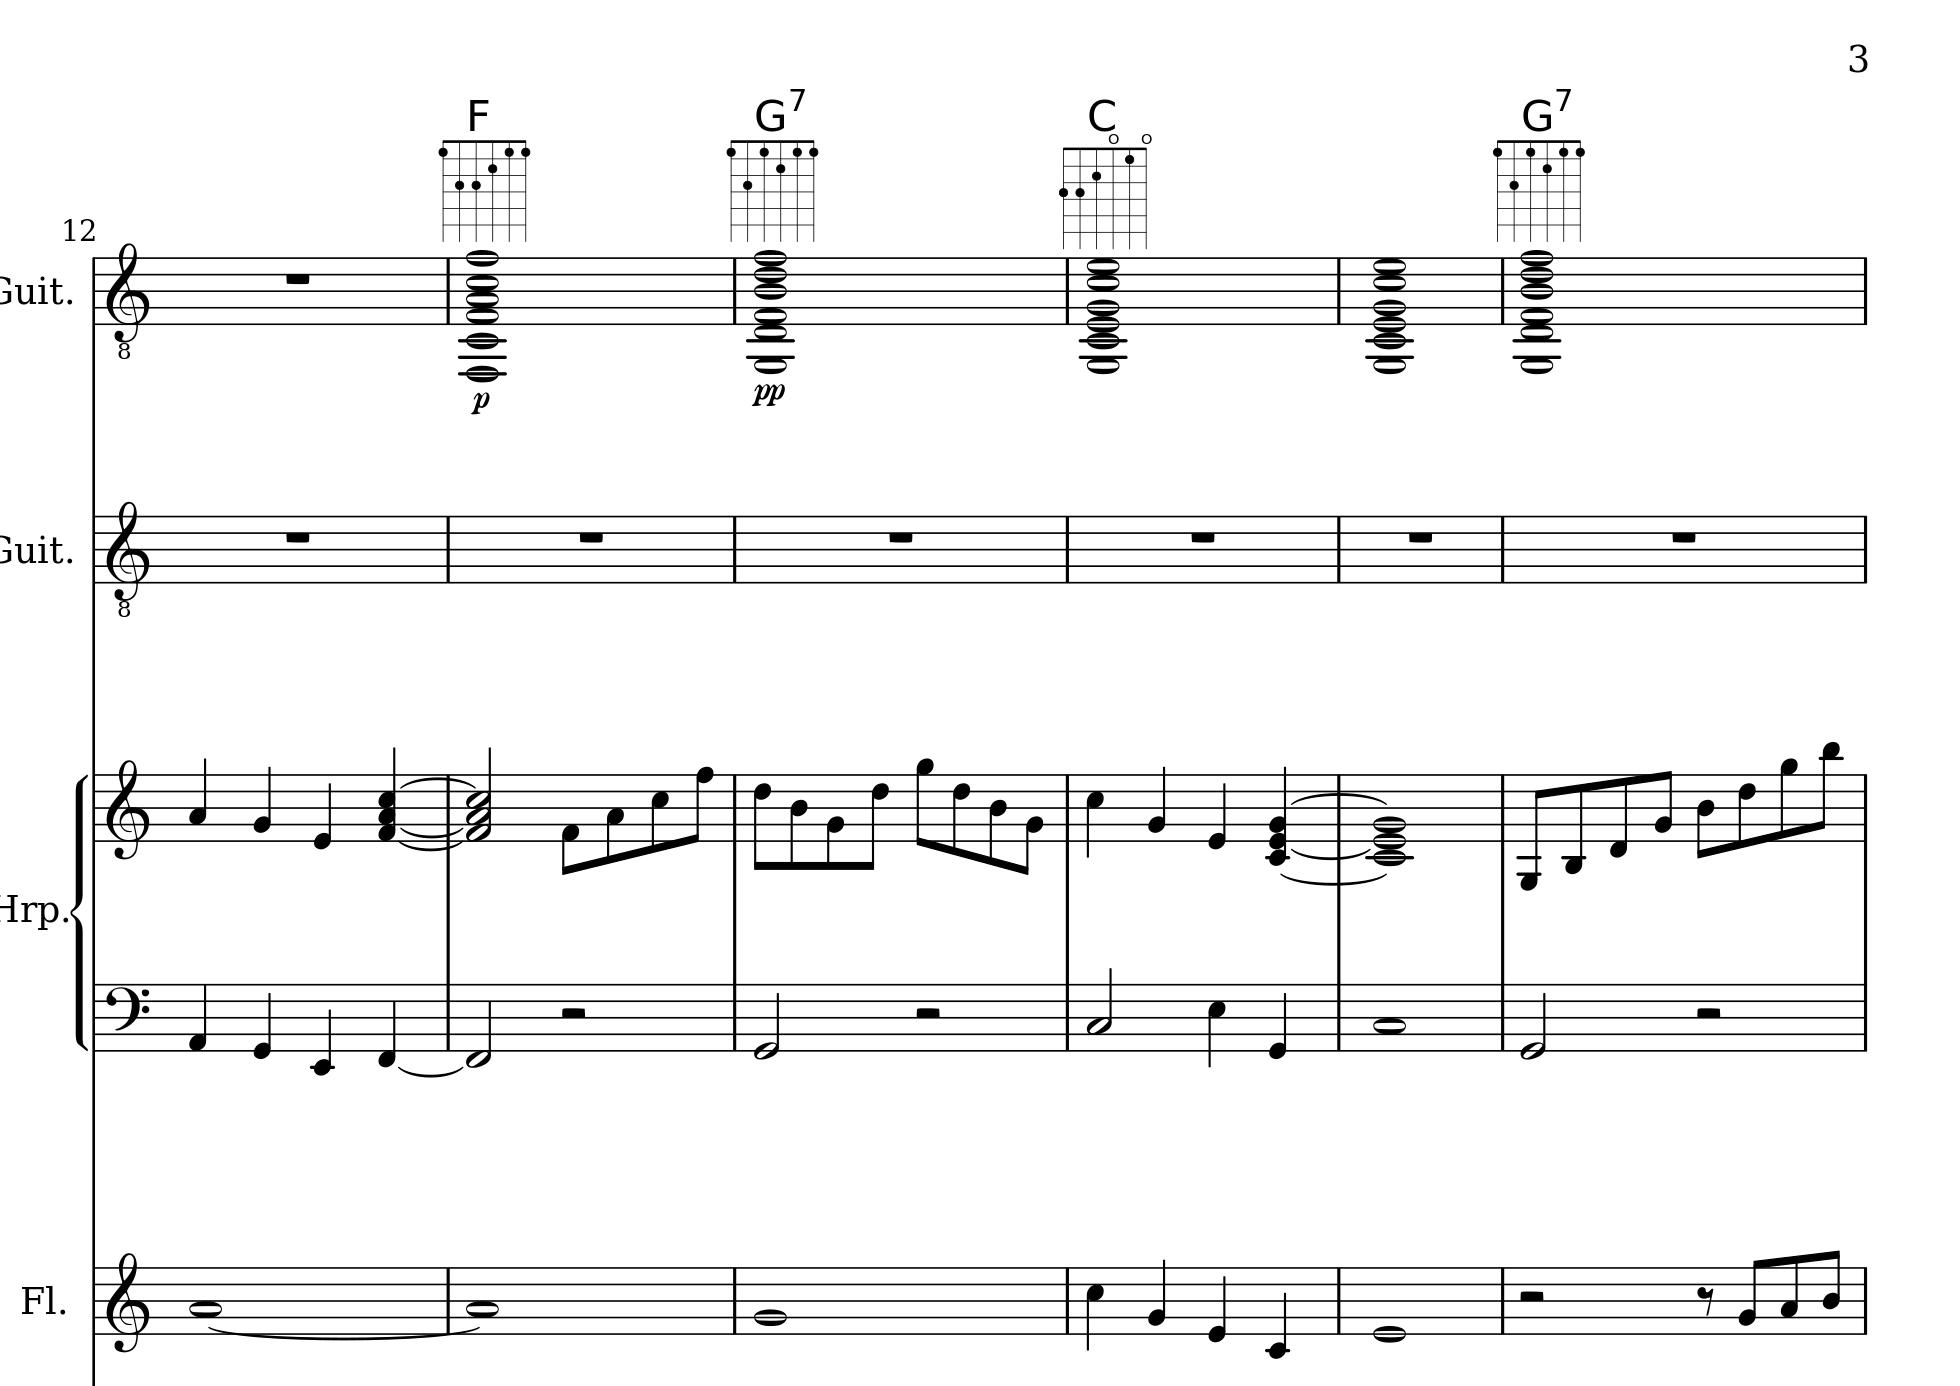1: (61, 214, 76, 243)
1_0: (1371, 1261, 1408, 1344)
1_2: (751, 1263, 789, 1336)
1_3: (1372, 982, 1407, 1053), (190, 1264, 223, 1336), (465, 1264, 498, 1335)
1_th: (1368, 774, 1416, 868)
2: (78, 216, 97, 243)
2_-1: (465, 981, 493, 1068)
2_0: (751, 981, 781, 1060), (1519, 981, 1548, 1060)
2_3: (1086, 966, 1114, 1051)
2_th: (463, 744, 495, 847)
3: (1846, 39, 1872, 76)
4_-1: (373, 979, 397, 1068)
4_-2: (1264, 1264, 1293, 1359), (309, 979, 334, 1075)
4_0: (1206, 771, 1230, 850), (250, 981, 274, 1060), (1206, 1264, 1230, 1342), (312, 771, 334, 850), (1267, 981, 1290, 1060)
4_1: (184, 981, 210, 1051)
4_2: (1146, 763, 1170, 843), (1146, 1255, 1170, 1335), (252, 763, 274, 843)
4_3: (187, 754, 208, 841)
4_5: (1084, 771, 1107, 859), (1206, 981, 1228, 1068), (1084, 1264, 1107, 1351)
4_th: (1266, 765, 1290, 868), (376, 747, 399, 841)
7: (1555, 84, 1572, 111), (789, 85, 805, 112)
8_-1: (1606, 771, 1632, 859)
8_-3: (1561, 772, 1587, 874)
8_-5: (1518, 771, 1546, 889)
8_1: (559, 772, 580, 877)
8_11: (1815, 739, 1843, 843)
8_2: (1020, 772, 1045, 876), (823, 772, 846, 871), (1737, 1257, 1765, 1335), (1653, 768, 1674, 843)
8_3: (604, 772, 625, 865), (1779, 1252, 1801, 1336)
8_4: (787, 771, 810, 871), (987, 771, 1009, 868), (1821, 1246, 1842, 1336), (1695, 772, 1716, 859)
8_5: (649, 771, 669, 853)
8_6: (861, 772, 891, 871), (751, 772, 774, 871), (951, 772, 972, 859), (1737, 771, 1758, 850)
8_8: (685, 765, 715, 844)
8_9: (915, 756, 934, 850), (1779, 757, 1800, 843)
Brace: (69, 768, 88, 1048)
Fclef: (103, 981, 153, 1053)
Fl: (18, 1279, 58, 1318)
Fretboard: (1056, 136, 1156, 249), (1486, 136, 1588, 244), (721, 136, 822, 243), (435, 135, 532, 244)
Gclef: (103, 757, 150, 861), (103, 1249, 148, 1354)
Guit: (1, 526, 64, 568), (1, 268, 64, 309)
Hrp: (1, 889, 60, 931)
Lower_Gclef: (103, 498, 150, 619), (105, 240, 150, 360)
Rests1: (280, 268, 315, 288), (280, 526, 315, 546), (1404, 528, 1437, 547), (1668, 526, 1701, 546), (885, 526, 916, 546), (574, 528, 607, 546), (1188, 528, 1219, 546)
Rests2: (1515, 1287, 1548, 1306), (556, 1005, 589, 1023), (1692, 1005, 1725, 1021), (913, 1006, 943, 1021)
Rests8: (1695, 1284, 1717, 1315)
Single_barline: (1329, 775, 1350, 847), (439, 256, 457, 325), (1855, 256, 1873, 324), (1059, 258, 1077, 325), (1494, 514, 1512, 582), (1330, 982, 1348, 1050), (85, 1266, 103, 1333), (1059, 1266, 1077, 1333), (1494, 258, 1512, 324), (439, 984, 457, 1050), (726, 1267, 744, 1333), (1494, 1267, 1512, 1333), (439, 1266, 457, 1330), (439, 514, 456, 583), (1059, 514, 1075, 582), (1857, 514, 1873, 582), (1060, 774, 1077, 841), (1495, 774, 1512, 841), (1857, 982, 1873, 1050), (1494, 984, 1510, 1050), (1330, 1267, 1347, 1333), (87, 256, 102, 325), (1858, 772, 1873, 841), (727, 256, 742, 324), (1332, 256, 1347, 324), (727, 514, 742, 582), (1858, 1266, 1873, 1333), (1332, 516, 1347, 582), (727, 775, 742, 841), (441, 775, 456, 841), (727, 984, 742, 1050), (1060, 984, 1075, 1050), (88, 774, 102, 841), (88, 514, 100, 583), (88, 984, 100, 1050)
Slur: (1278, 871, 1387, 886), (1291, 790, 1387, 805), (1287, 846, 1375, 859), (397, 775, 477, 787), (397, 826, 465, 840), (397, 1065, 463, 1077), (394, 840, 466, 850)
p: (469, 390, 490, 415)
pp: (751, 379, 786, 408)
